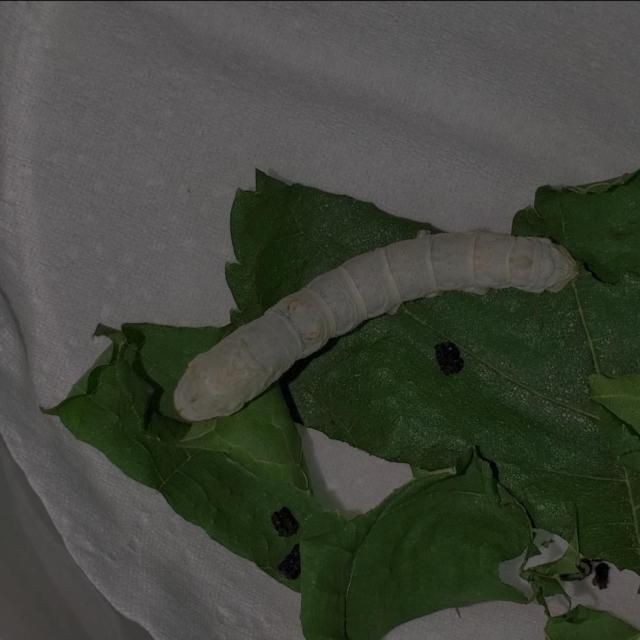Healthy: (164, 218, 583, 427)
